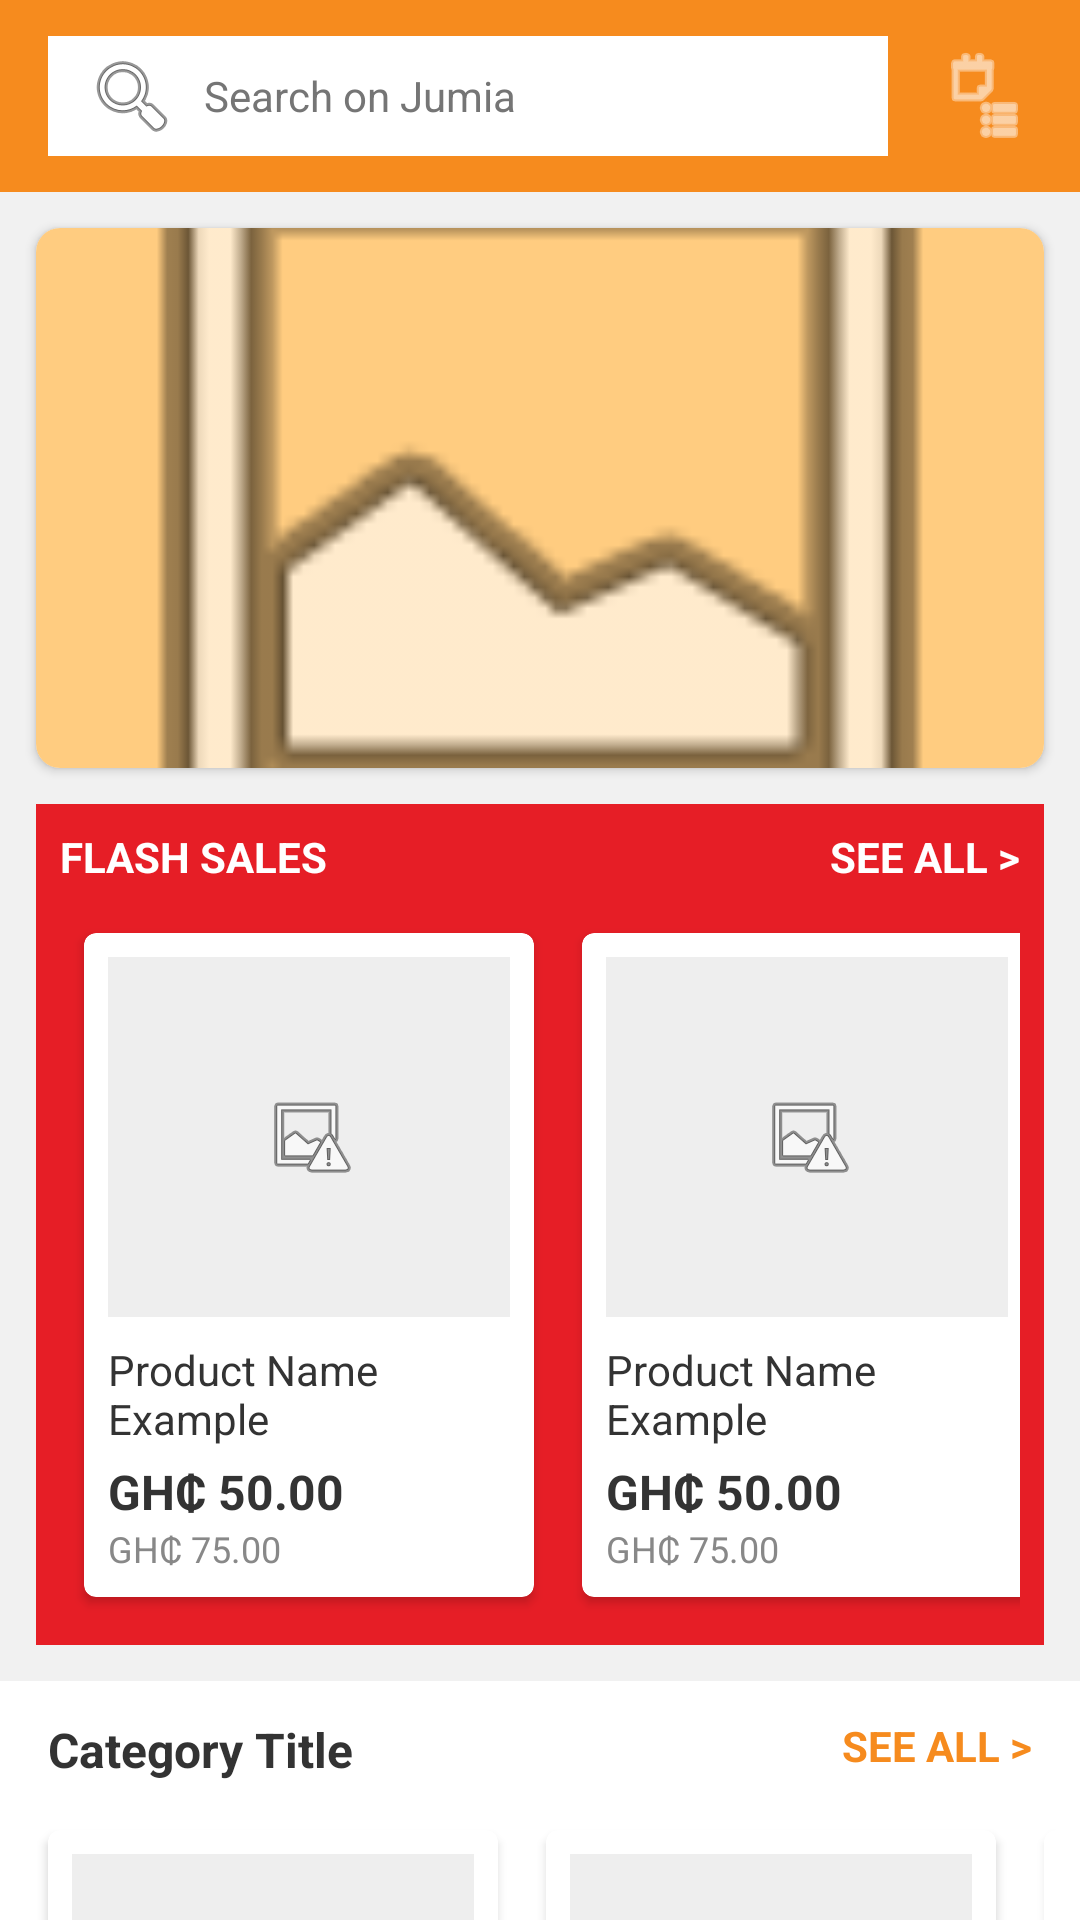

Screen size 1080x1920. Icon name, then its box in pixels as (x1, y1, x2, y2):
agenda: (951, 53, 1018, 138)
